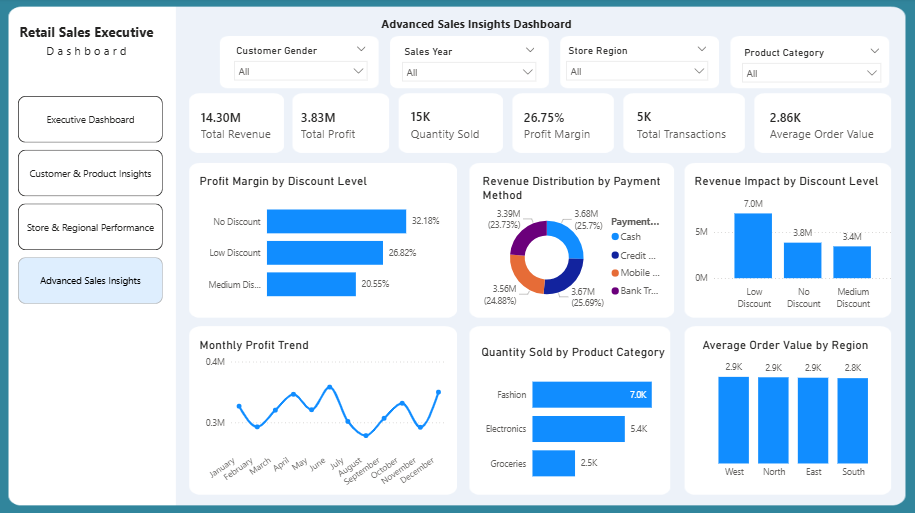

The page's visual inventory and layout, read from the dashboard file:
{"tool":"powerbi","page":{"name":"Advanced Sales Insights","canvas":[1280,720],"ordinal":3},"visuals":[{"type":"cardVisual","fields":{"Data":["retail_sales_view.Total Revenue"]},"box":[254,137.1,163.3,80.9],"z":0},{"type":"cardVisual","fields":{"Data":["retail_sales_view.Total Profit"]},"box":[393.5,137.1,143.7,80.9],"z":1000},{"type":"cardVisual","fields":{"Data":["retail_sales_view.Quantity Sold"]},"box":[547,134.3,166,83.7],"z":2000},{"type":"cardVisual","fields":{"Data":["retail_sales_view.Profit Margin"]},"box":[704.7,137.1,157.7,80.9],"z":3000},{"type":"cardVisual","fields":{"Data":["retail_sales_view.Total Transactions"]},"box":[862.3,134.3,185.6,83.7],"z":4000},{"type":"cardVisual","fields":{"Data":["retail_sales_view.Average Order Value"]},"box":[1047.9,137.1,206.5,80.9],"z":5000},{"type":"slicer","fields":{"Values":["retail_sales_view.Date.Variation.Date Hierarchy.Year"]},"box":[553.8,61,207.5,58],"z":6000},{"type":"slicer","fields":{"Values":["retail_sales_view.Category"]},"box":[1028.3,62.6,213.6,62.6],"z":7000},{"type":"slicer","fields":{"Values":["retail_sales_view.Region"]},"box":[782.6,59.5,218.2,67.1],"z":8000},{"type":"slicer","fields":{"Values":["retail_sales_view.Gender"]},"box":[318.9,59.5,206,62.6],"z":9000},{"type":"textbox","box":[16.8,29,213.6,71.7],"z":10000},{"type":"textbox","box":[527.9,19.8,280.7,39.7],"z":11000},{"type":"pageNavigator","box":[27.5,137.3,202.9,292.9],"z":12000},{"type":"clusteredColumnChart","title":"Revenue Impact by Discount Level","fields":{"Category":["retail_sales_view.Discount Level"],"Y":["retail_sales_view.Total Revenue"]},"box":[967.3,245.8,286.5,196.4],"z":13000},{"type":"barChart","title":"Profit Margin by Discount Level","fields":{"Category":["retail_sales_view.Discount Level"],"Y":["retail_sales_view.Profit Margin"]},"box":[276.4,245.8,344.7,194.9],"z":14000},{"type":"donutChart","title":"Revenue Distribution by Payment Method","fields":{"Category":["retail_sales_view.PaymentMethod"],"Y":["retail_sales_view.Total Revenue"]},"box":[670.5,245.8,266.2,194.9],"z":15000},{"type":"lineChart","title":"Monthly Profit Trend","fields":{"Category":["retail_sales_view.Date.Variation.Date Hierarchy.Month"],"Y":["retail_sales_view.Total Profit"]},"box":[276.4,474.2,353.5,228.4],"z":16000},{"type":"barChart","title":"Quantity Sold by Product Category","fields":{"Category":["retail_sales_view.Category"],"Y":["retail_sales_view.Quantity Sold"]},"box":[669.1,484.4,269.1,209.5],"z":17000},{"type":"clusteredColumnChart","fields":{"Category":["retail_sales_view.Region"],"Y":["retail_sales_view.Average Order Value"]},"box":[977.5,474.2,264.7,205.1],"z":18000}]}

Visuals, with their boxes in screenshot pixels (x1, y1, x2, y2), scaled from the page's 1280x720 canvas onto the 915x513 screenshot:
cardVisual - retail_sales_view.Total Revenue: 182,98,298,155
cardVisual - retail_sales_view.Total Profit: 281,98,384,155
cardVisual - retail_sales_view.Quantity Sold: 391,96,510,155
cardVisual - retail_sales_view.Profit Margin: 504,98,616,155
cardVisual - retail_sales_view.Total Transactions: 616,96,749,155
cardVisual - retail_sales_view.Average Order Value: 749,98,897,155
slicer - retail_sales_view.Date.Variation.Date Hierarchy.Year: 396,43,544,85
slicer - retail_sales_view.Category: 735,45,888,89
slicer - retail_sales_view.Region: 559,42,715,90
slicer - retail_sales_view.Gender: 228,42,375,87
textbox: 12,21,165,72
textbox: 377,14,578,42
pageNavigator: 20,98,165,307
"Revenue Impact by Discount Level" clusteredColumnChart: 691,175,896,315
"Profit Margin by Discount Level" barChart: 198,175,444,314
"Revenue Distribution by Payment Method" donutChart: 479,175,670,314
"Monthly Profit Trend" lineChart: 198,338,450,501
"Quantity Sold by Product Category" barChart: 478,345,671,494
clusteredColumnChart - retail_sales_view.Region x retail_sales_view.Average Order Value: 699,338,888,484
